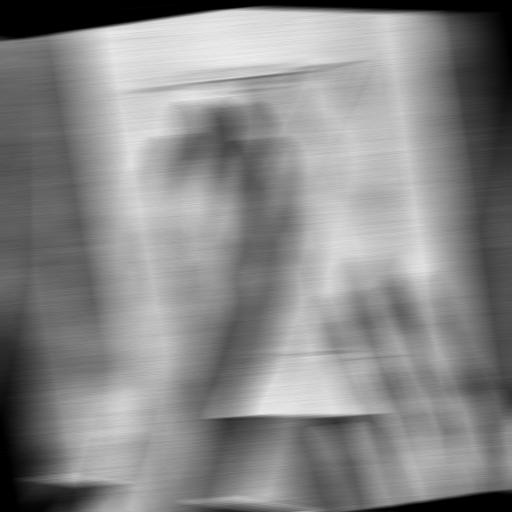bottom_left: (462, 408, 484, 417)
bottom_right: (132, 405, 155, 415)
envelop: (122, 38, 414, 404)
